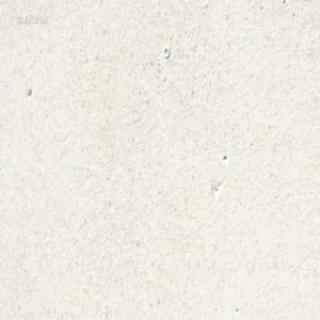Washertrack_idkeyframe: (161, 45, 168, 57)
